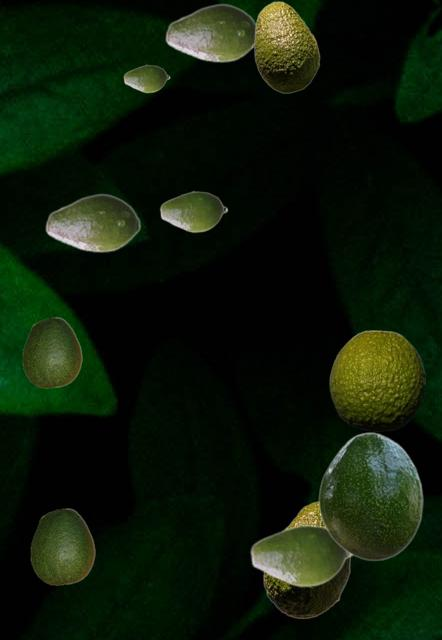avocado: (318, 432, 422, 560), (263, 501, 349, 618), (329, 330, 424, 430), (249, 523, 352, 587), (251, 1, 319, 92), (45, 193, 140, 252), (165, 3, 255, 62), (30, 508, 94, 584), (22, 317, 81, 387), (159, 190, 227, 232), (123, 64, 169, 92)
